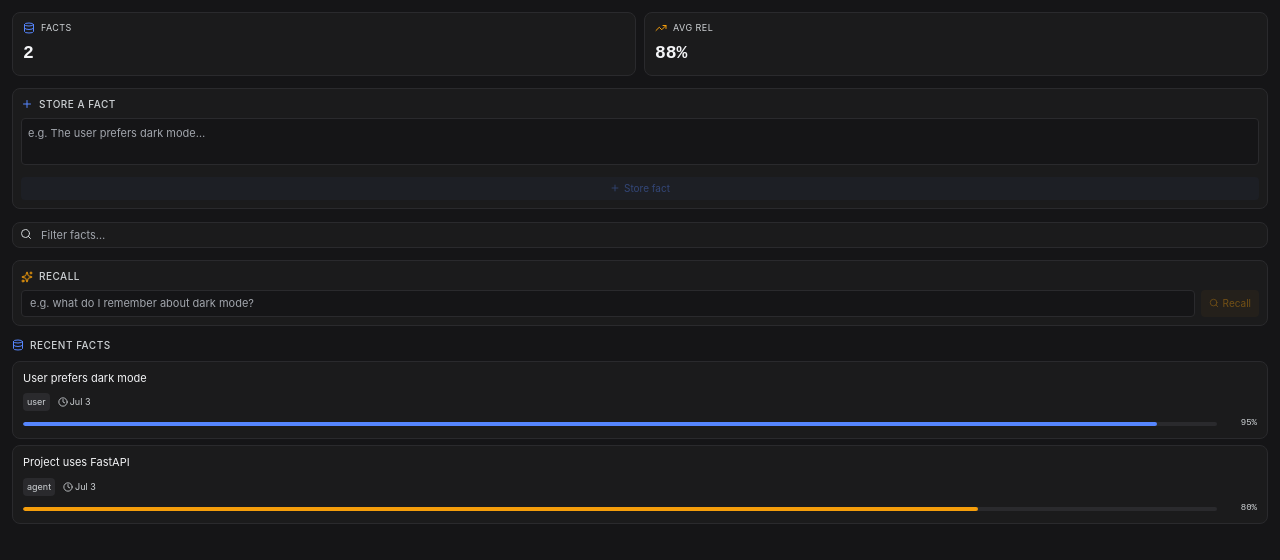
MemoryTab › shows an error when storing fails
The image size is (1280, 560).
Type "x" into the text box with test id "memory-store-input" at {"x": 640, "y": 141}, box [21,118,1259,164]
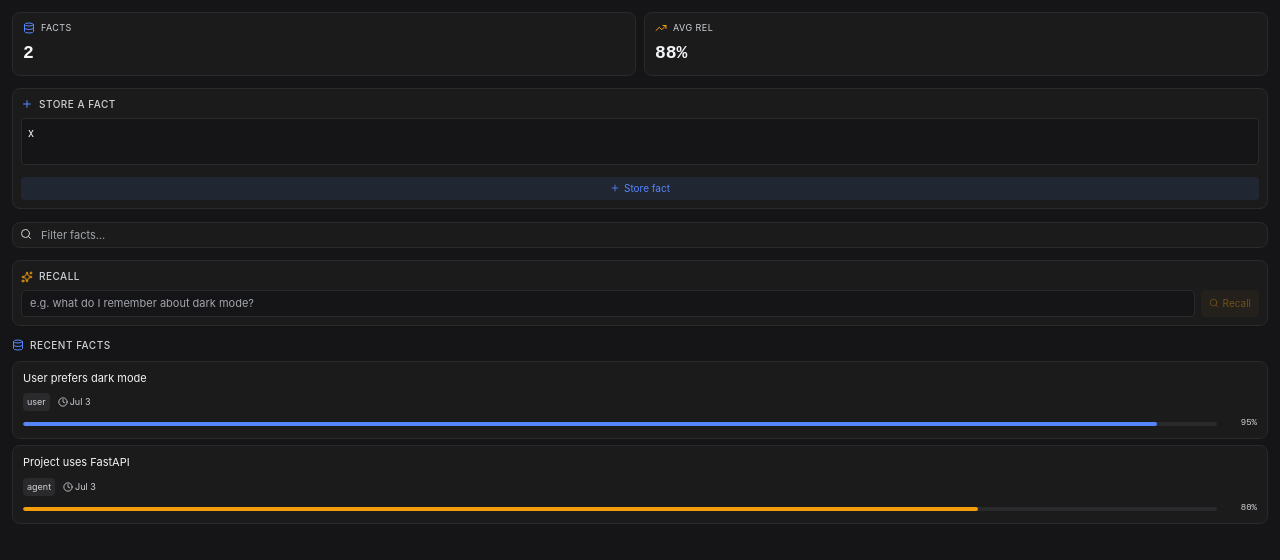
Click the button with test id "memory-store-button" at {"x": 640, "y": 188}, box [21,176,1259,200]
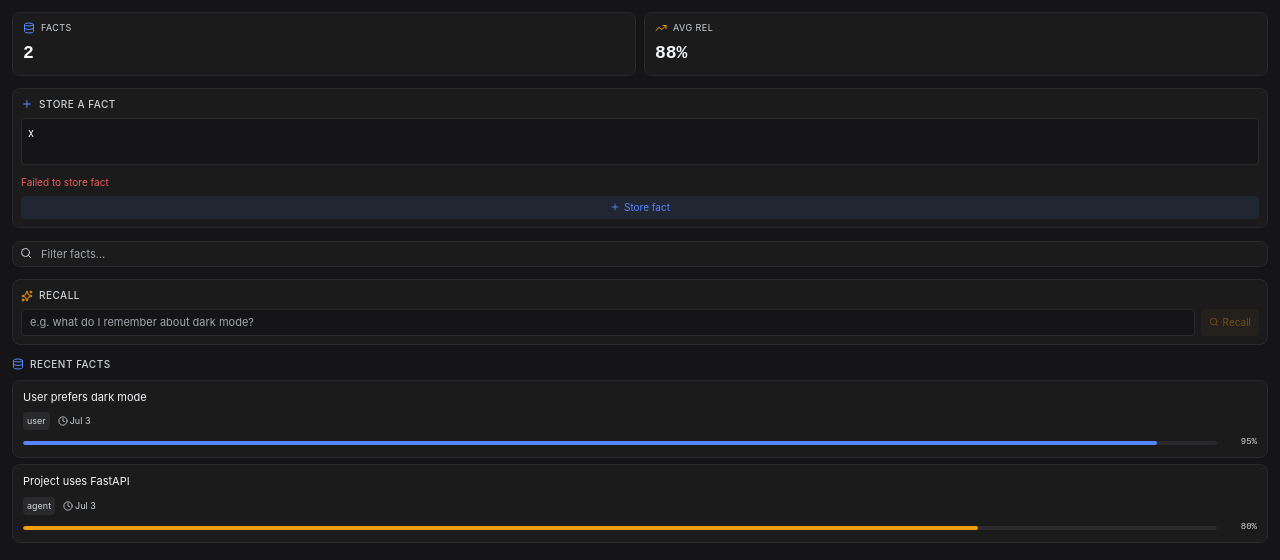
Expected: the text "Failed to store fact" is shown, [21,176,109,188]
